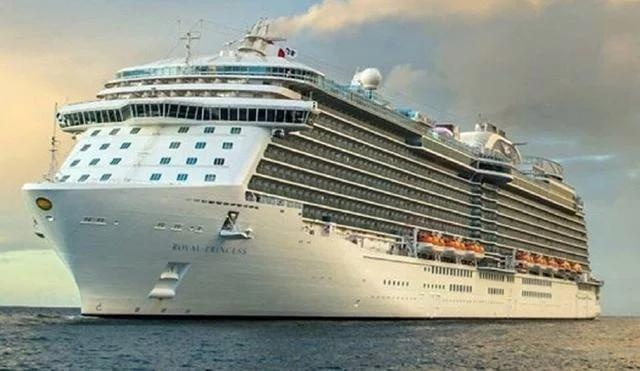youlun: (31, 29, 600, 319)
